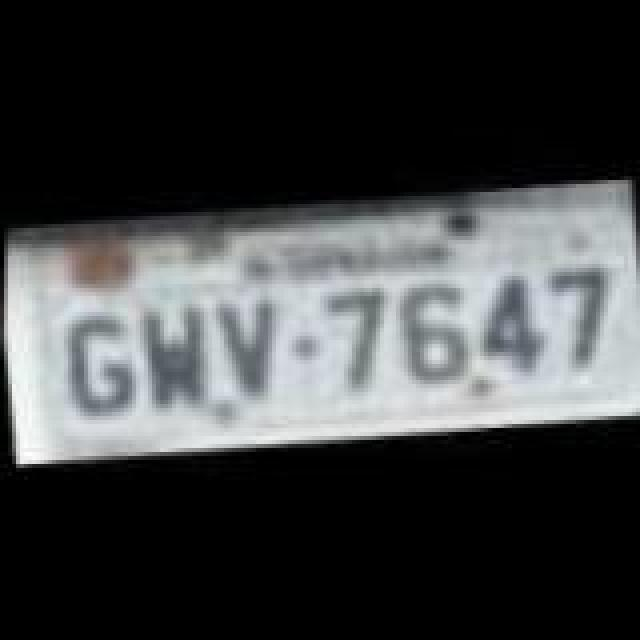4: (470, 260, 550, 380)
6: (390, 270, 478, 390)
7: (534, 256, 622, 376), (314, 284, 394, 396)
G: (60, 308, 140, 428)
V: (208, 290, 288, 414)
W: (134, 292, 218, 420)
